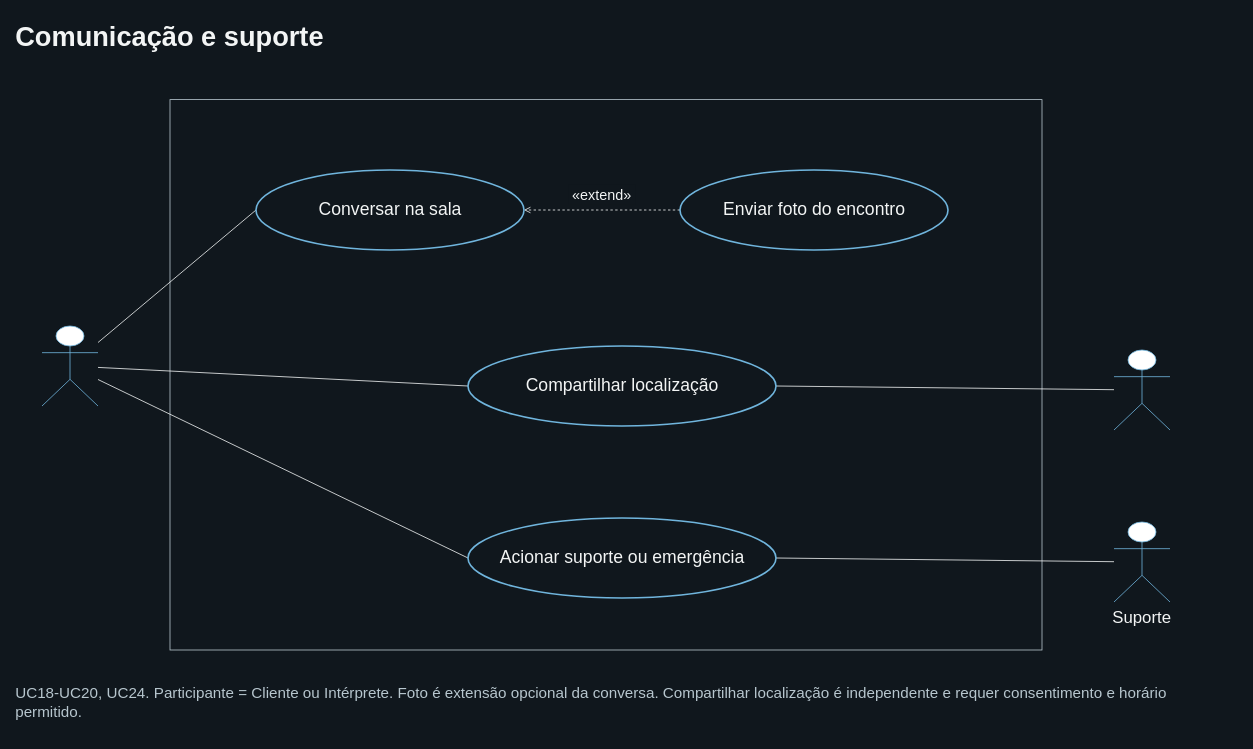
The diagram is 1253 pixels wide and 749 high, and some of its shapes have lost their labels. Here are the shapes that lost their labels. From the top down, the box of each, then its label:
(41, 325, 98, 406): Participante
(169, 99, 1042, 650): Sistema Víamos
(1113, 349, 1170, 430): Localização do dispositivo
